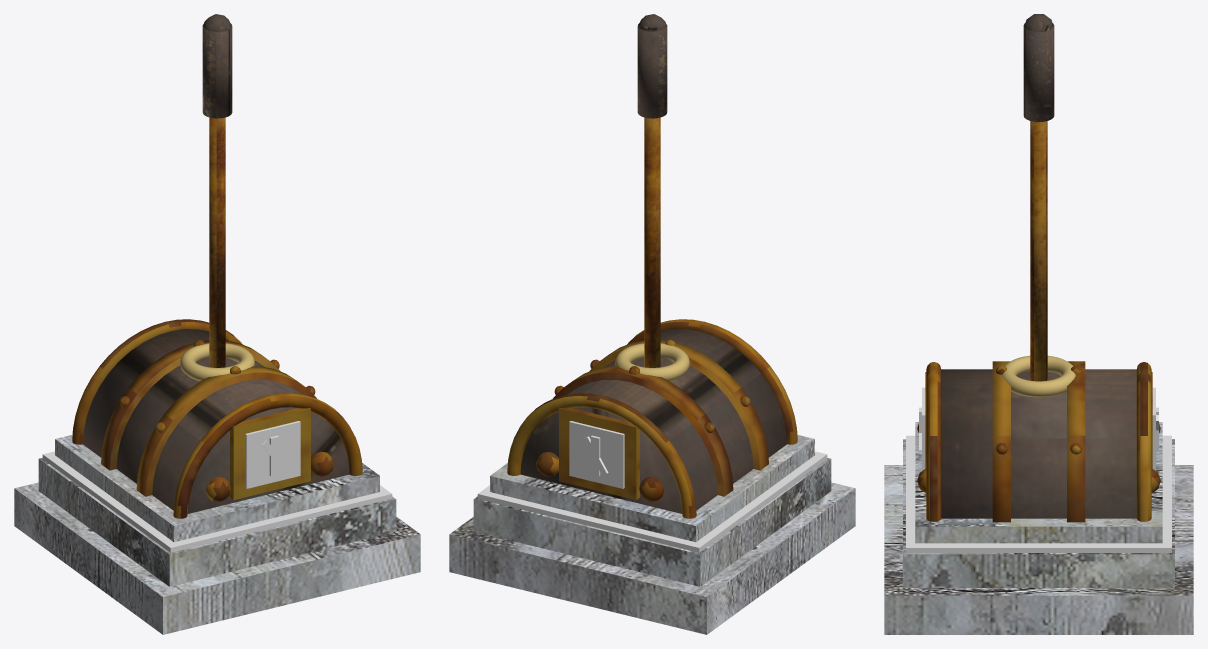
Rendered from Lever 1.fbx.
3 renders of one model, left to right at view 1: azimuth 30°, elevation 25°; view 2: azimuth 150°, elevation 25°; view 3: azimuth 270°, elevation 25°, orthographic. The views are drawn at different scales.
Parts seen in each view (by area): view 1: Lever_Body, Lever_Handle; view 2: Lever_Body, Lever_Handle; view 3: Lever_Body, Lever_Handle.
Part boxes in pixels (bbox=[...]): Lever_Body: bbox=[14, 319, 420, 634]; Lever_Handle: bbox=[180, 14, 254, 381]; Lever_Body: bbox=[449, 319, 855, 634]; Lever_Handle: bbox=[615, 14, 689, 381]; Lever_Body: bbox=[884, 361, 1193, 634]; Lever_Handle: bbox=[1002, 14, 1075, 397].
Bounding box in the file's own units: 0.5 × 1 × 0.5.
Materials: 6 (4 with a texture image).
